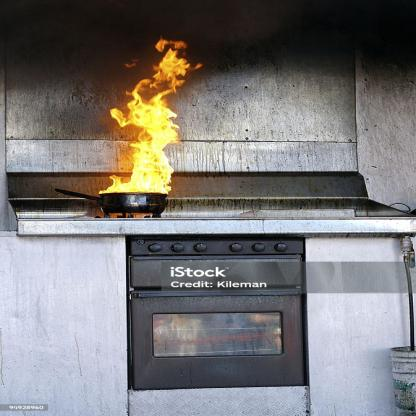fire: (0, 0, 416, 108), (103, 38, 203, 197)
